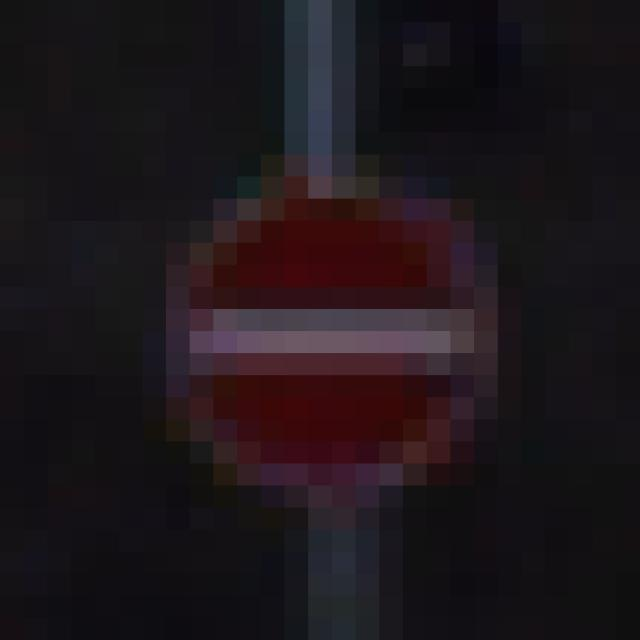No Entry: (143, 134, 523, 531)
